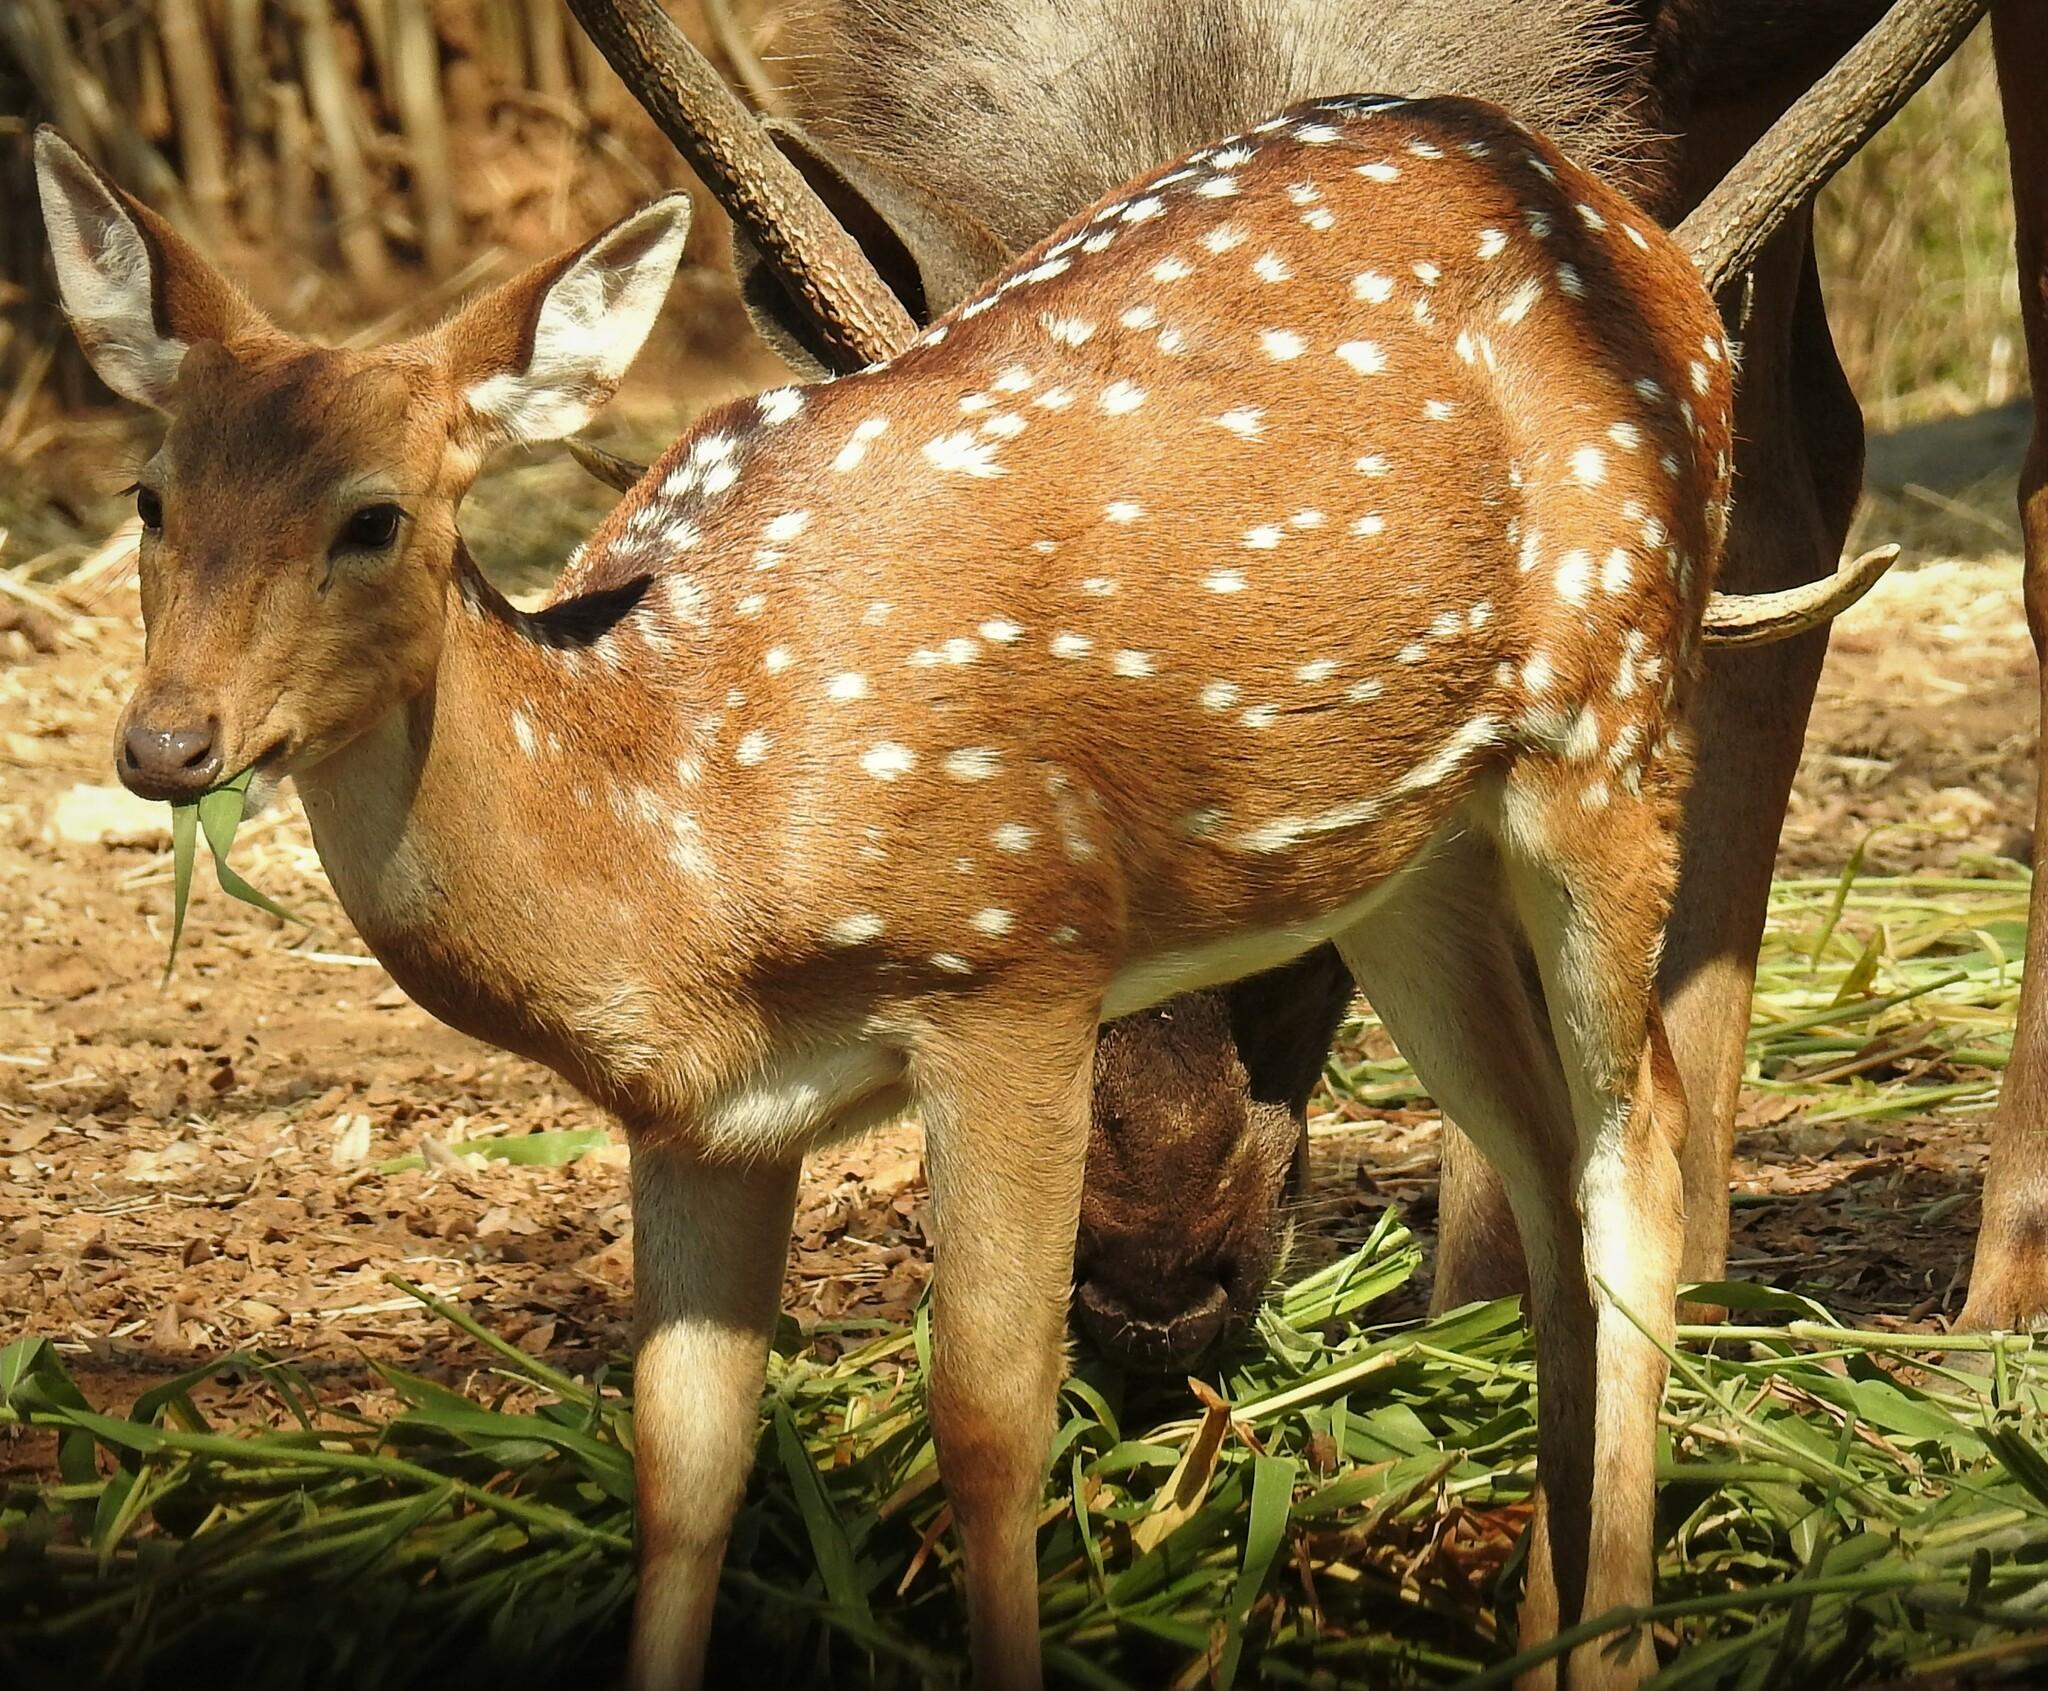Deer: (37, 99, 1732, 1689)
